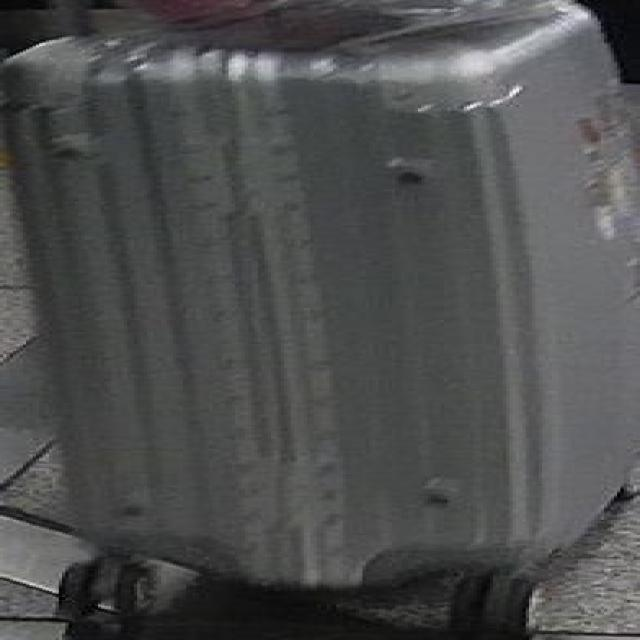suitcase: (16, 0, 637, 639)
